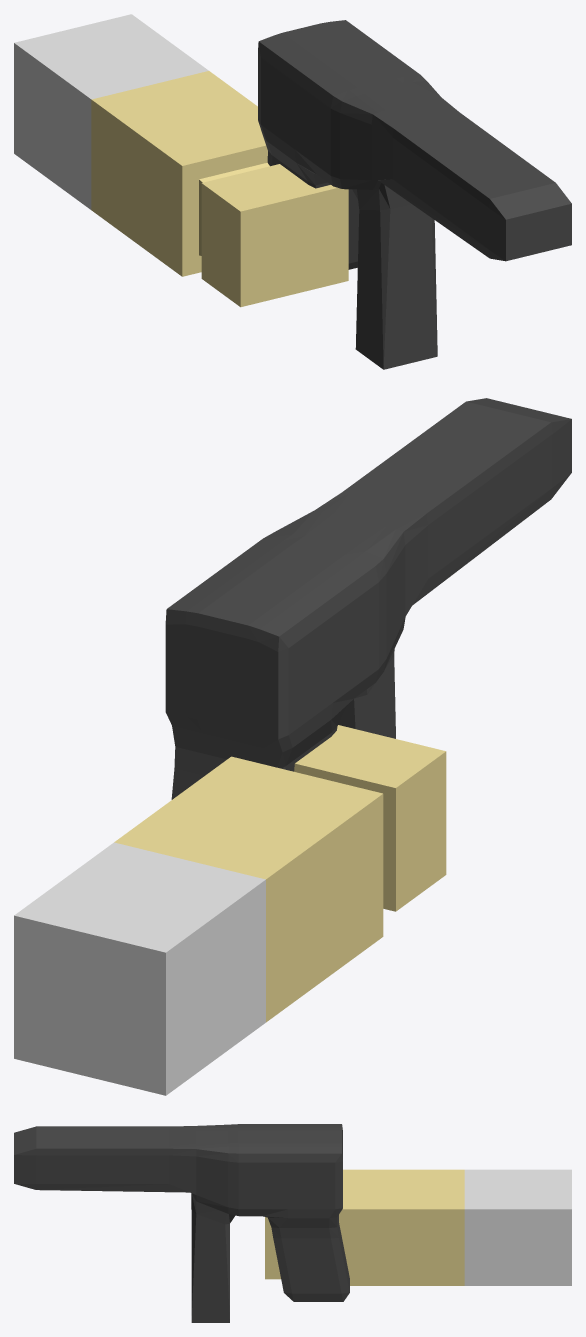
Rendered from uzi3.obj.
The picture shows the model from 3 angles, top to bottom: view 1: azimuth 30°, elevation 25°; view 2: azimuth 150°, elevation 25°; view 3: azimuth 270°, elevation 25°; orthographic projection. The views are drawn at different scales.
Visible parts, largest first — view 1: cube5, cube3; view 2: cube5, cube3; view 3: cube3, cube5.
Boxes of the visible parts, x1,y1,x2,y2 form: cube5: (14, 14, 348, 307); cube3: (258, 20, 571, 369); cube5: (14, 725, 446, 1095); cube3: (165, 398, 571, 799); cube3: (14, 1124, 349, 1322); cube5: (265, 1169, 571, 1285).
Bounding box in the file's own units: 11.44 × 16.61 × 47.46.
Materials: 3 (3 with a texture image).
